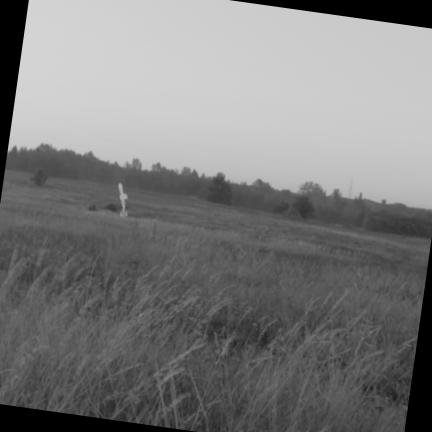Shahed: (117, 183, 127, 216)
